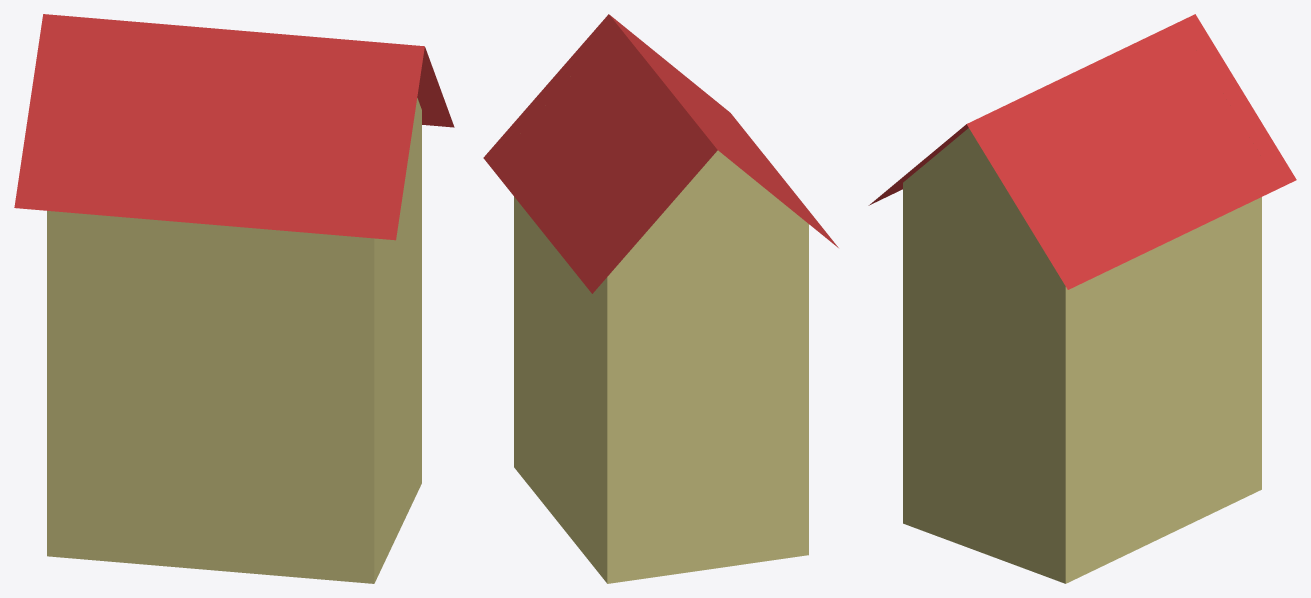
The picture shows the model from 3 angles, left to right: view 1: azimuth 30°, elevation 25°; view 2: azimuth 150°, elevation 25°; view 3: azimuth 270°, elevation 25°; orthographic projection. The views are drawn at different scales.
Bounding box in the file's own units: 8.85 × 8.7 × 9.78.
